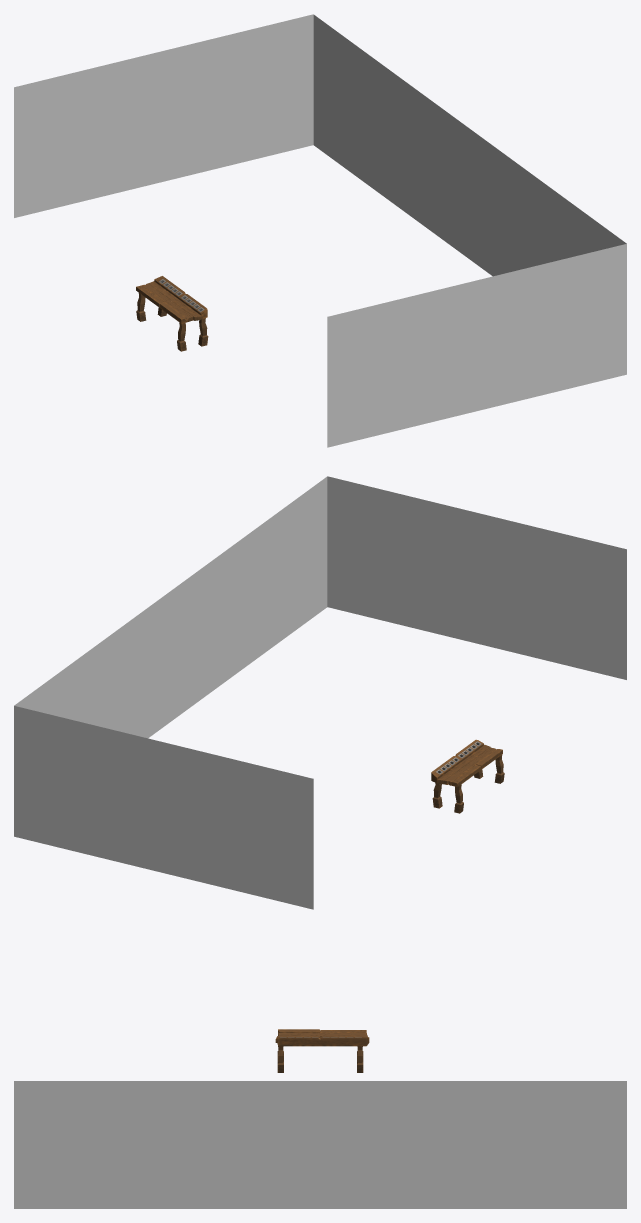
File: sushimasafix.fbx
3 views of the same model, one above another, from view 1: azimuth 30°, elevation 25°; view 2: azimuth 150°, elevation 25°; view 3: azimuth 270°, elevation 25° (orthographic). The views are drawn at different scales.
Parts seen in each view (by area): view 1: Plane, lpsuşimasa.001; view 2: Plane, lpsuşimasa.001; view 3: Plane, lpsuşimasa.001.
Boxes of the visible parts, x1,y1,x2,y2 form: Plane: [14, 14, 626, 447]; lpsuşimasa.001: [136, 276, 208, 351]; Plane: [14, 476, 626, 909]; lpsuşimasa.001: [431, 739, 504, 813]; Plane: [14, 1081, 626, 1208]; lpsuşimasa.001: [275, 1029, 369, 1072].
Bounding box in the file's own units: 5736 × 2299 × 9980.
